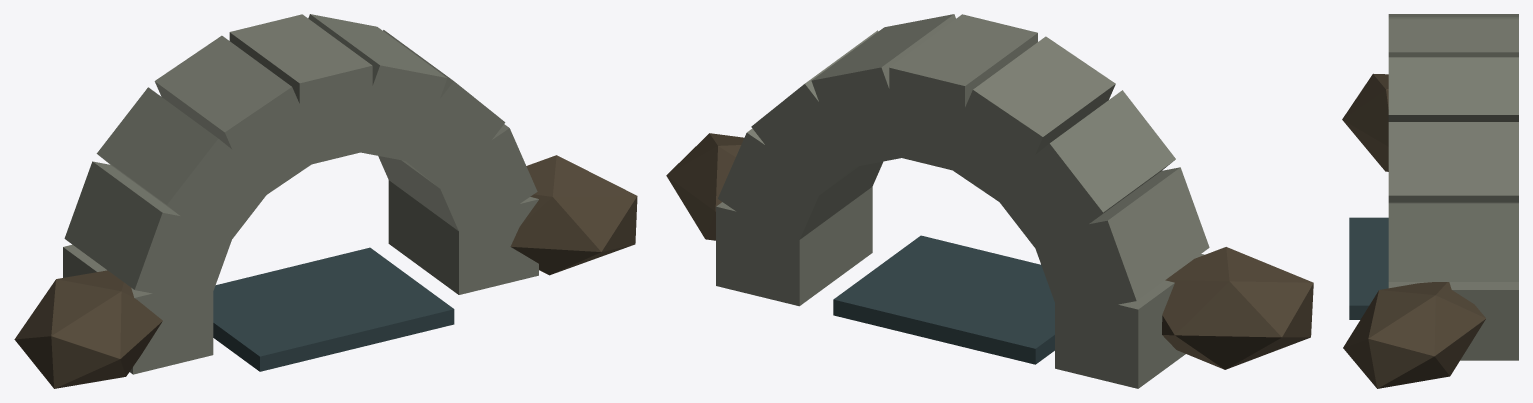
Rendered from culvert-mouth.glb.
3 renders of one model, left to right at view 1: azimuth 30°, elevation 25°; view 2: azimuth 150°, elevation 25°; view 3: azimuth 270°, elevation 25°, orthographic. The views are drawn at different scales.
Visible parts, largest first — view 1: culvert-mouth; view 2: culvert-mouth; view 3: culvert-mouth.
Part boxes in pixels (x1,y1,x2,y2): culvert-mouth: (14,14,637,388); culvert-mouth: (666,14,1313,388); culvert-mouth: (1342,14,1518,388).
Size of the model in its own units: 2.44 by 1.01 by 0.6783.
